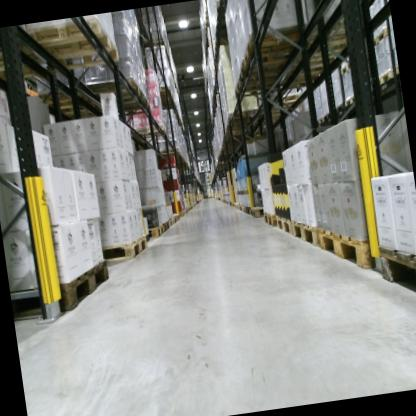pallet: (8, 261, 114, 324), (24, 15, 120, 74), (314, 217, 381, 278), (240, 22, 319, 70), (374, 237, 416, 308), (233, 47, 311, 85), (83, 75, 145, 108), (0, 45, 52, 83), (92, 234, 151, 264), (93, 92, 152, 121), (41, 90, 90, 118), (229, 68, 273, 98), (258, 93, 303, 117), (290, 215, 320, 249), (366, 67, 395, 95), (0, 24, 26, 54), (366, 25, 391, 56), (132, 124, 168, 141), (274, 210, 293, 238), (227, 110, 261, 125), (338, 56, 361, 76), (142, 223, 164, 240), (156, 145, 181, 157), (262, 209, 276, 230), (250, 203, 264, 218), (344, 93, 357, 108), (333, 102, 346, 116), (322, 111, 333, 123), (162, 219, 170, 233), (316, 115, 325, 127), (169, 214, 178, 225), (244, 202, 251, 215), (172, 211, 180, 221), (168, 217, 175, 227), (241, 204, 246, 215), (236, 203, 242, 212), (232, 200, 238, 209)
